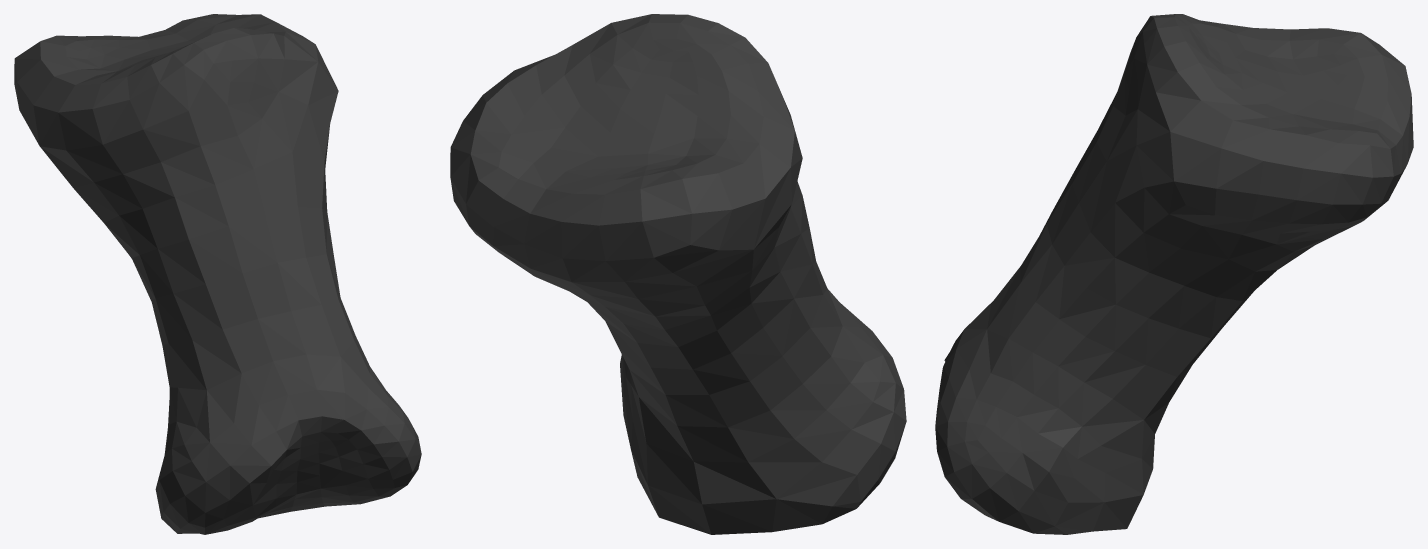
3 views of the same model, side by side, from view 1: azimuth 30°, elevation 25°; view 2: azimuth 150°, elevation 25°; view 3: azimuth 270°, elevation 25° (orthographic). The views are drawn at different scales.
Visible parts, largest first — view 1: FL_P1_L; view 2: FL_P1_L; view 3: FL_P1_L.
Part boxes in pixels (box(x1,y1,x2,y2)): FL_P1_L: box(14, 14, 421, 534); FL_P1_L: box(450, 14, 906, 534); FL_P1_L: box(935, 14, 1413, 534).
Size of the model in its own units: 0.0817 by 0.137 by 0.1225.
1 material, 1 textured.
